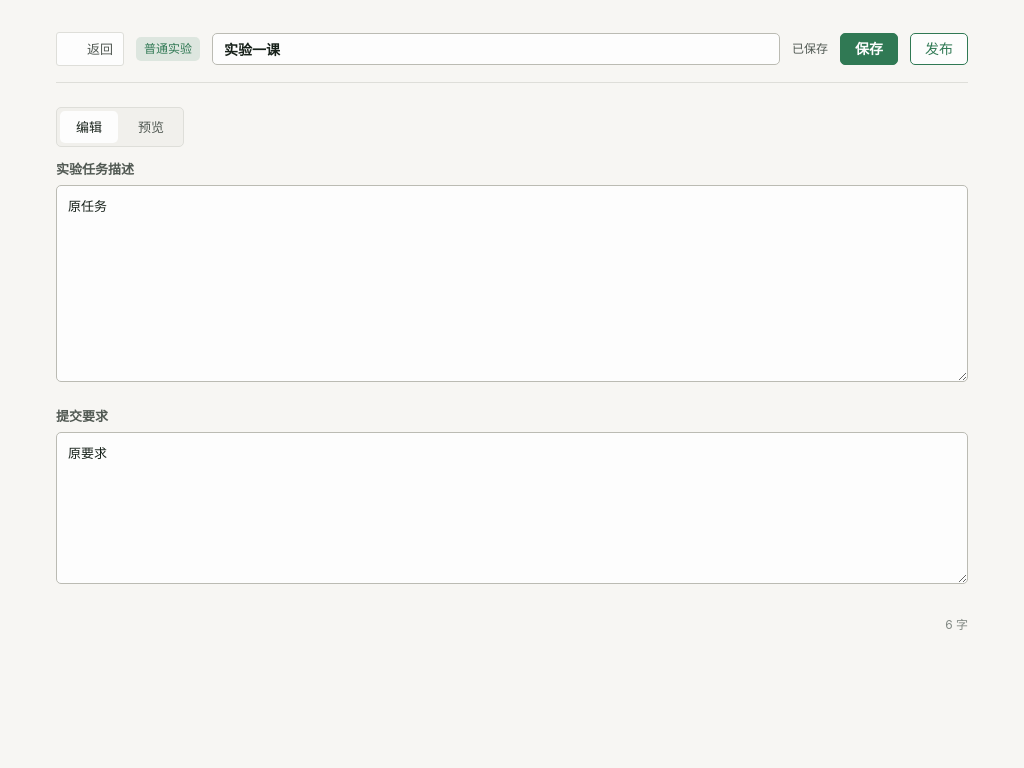
it: LessonExperimentEditor › 有未保存修改时发布：内容一并提交且快照重置
Replace the text in the text box with id "experiment-task" with "新任务" at (512,284), box [56,185,968,382]
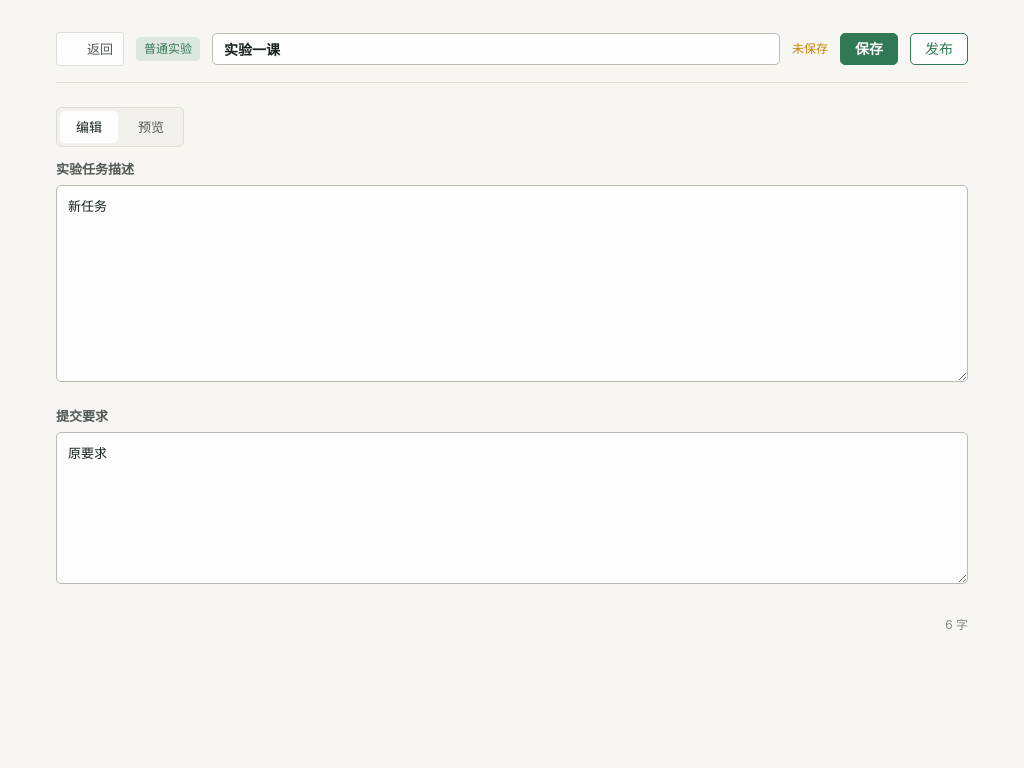
Result: the text with class "save-state" reads "未保存" at [792,41,828,56]
Click the button "发布" at (939,49), box [910,33,968,65]
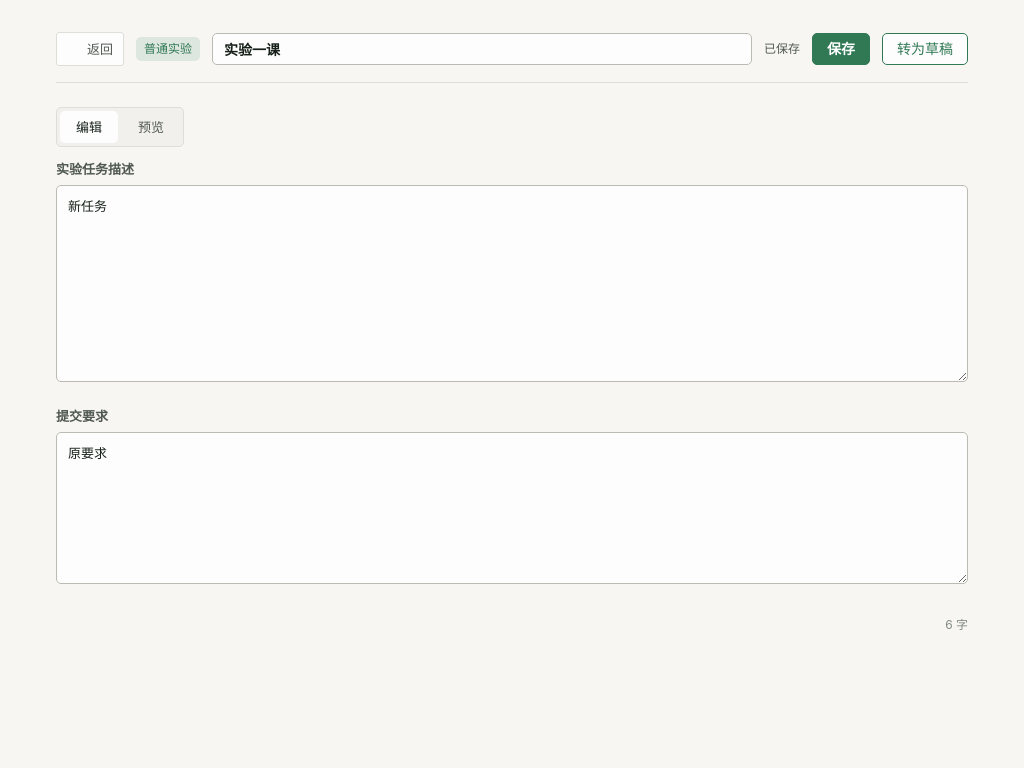
Result: the text with class "save-state" reads "已保存" at [764,41,800,56]
